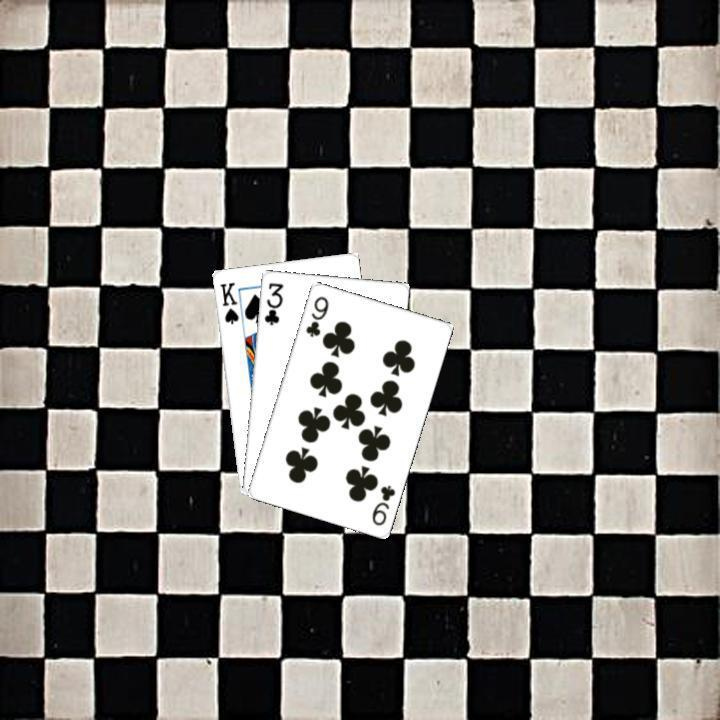3: (259, 278, 285, 327)
9: (367, 480, 397, 527), (301, 291, 330, 339)
K: (215, 277, 240, 326)
